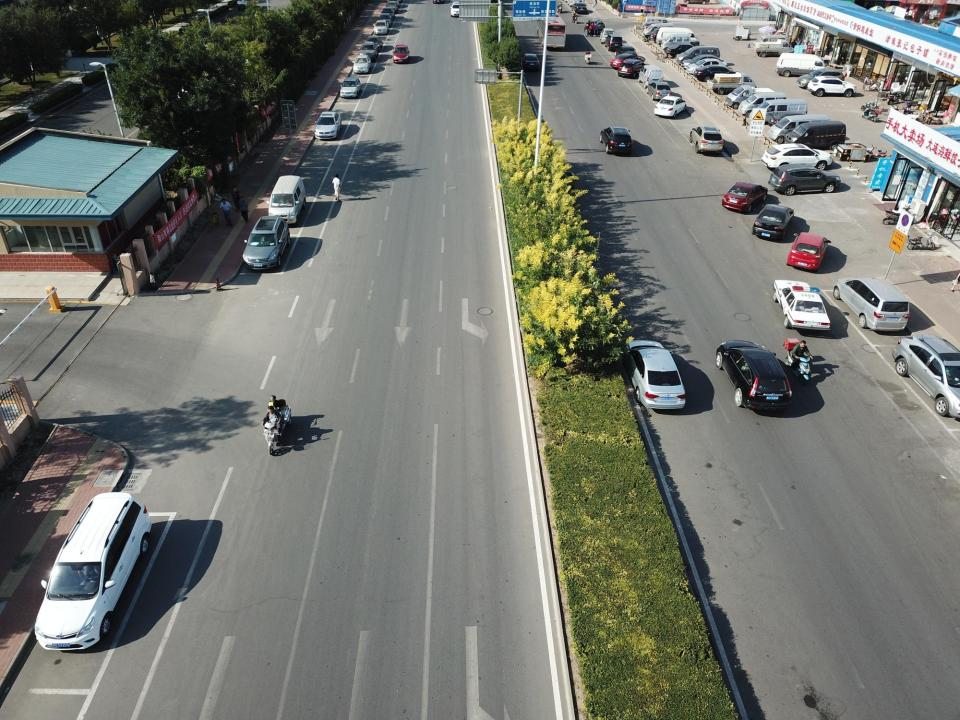bus: (536, 8, 567, 48)
car: (34, 492, 152, 651), (891, 334, 960, 420), (715, 340, 793, 411), (621, 340, 686, 410), (772, 280, 831, 332), (242, 215, 291, 270), (767, 164, 841, 196), (761, 144, 833, 172), (786, 231, 831, 272), (752, 203, 794, 241), (721, 181, 768, 213), (806, 75, 857, 97), (768, 110, 818, 130), (796, 68, 845, 88), (600, 126, 633, 155), (690, 126, 724, 154), (693, 64, 741, 82), (314, 111, 342, 140), (686, 58, 728, 75), (654, 96, 686, 118), (681, 54, 724, 70), (618, 58, 648, 79), (610, 52, 644, 70), (650, 27, 684, 44), (666, 43, 704, 58), (646, 81, 672, 101), (339, 77, 361, 98), (357, 42, 378, 62), (642, 21, 671, 35), (391, 44, 410, 63), (352, 55, 371, 74), (520, 53, 540, 71), (614, 46, 638, 61), (584, 18, 605, 34), (365, 35, 383, 53), (373, 20, 389, 35), (450, 1, 464, 18), (377, 14, 392, 28), (380, 8, 395, 21), (384, 1, 399, 14), (571, 3, 587, 14), (567, 0, 580, 8)
truck: (725, 84, 778, 109), (706, 72, 757, 95), (752, 38, 794, 57)
van: (832, 278, 910, 332), (767, 114, 832, 144), (268, 175, 306, 226), (785, 120, 846, 150), (749, 99, 807, 126), (775, 52, 828, 77), (738, 92, 786, 119), (676, 46, 720, 66), (656, 27, 700, 47), (752, 34, 788, 52), (638, 65, 664, 89), (643, 22, 675, 40), (661, 34, 691, 52), (642, 16, 672, 33), (604, 34, 623, 52), (599, 28, 615, 44), (236, 0, 252, 10)
